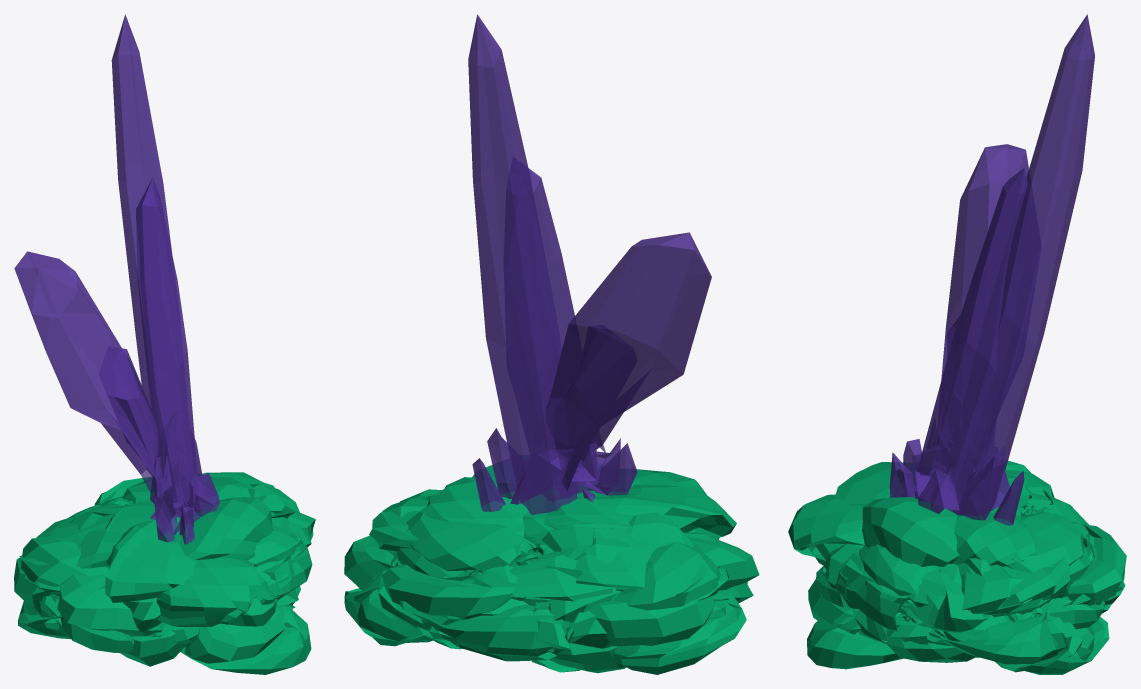
File: crystal19.obj
3 renders of one model, left to right at view 1: azimuth 30°, elevation 25°; view 2: azimuth 150°, elevation 25°; view 3: azimuth 270°, elevation 25°, orthographic. The views are drawn at different scales.
Parts seen in each view (by area): view 1: Cube.001, Circle.002_Circle.003; view 2: Cube.001, Circle.002_Circle.003; view 3: Cube.001, Circle.002_Circle.003.
Boxes of the visible parts, x1=… form: Cube.001: x1=14, y1=472, x2=315, y2=674; Circle.002_Circle.003: x1=14, y1=14, x2=219, y2=544; Cube.001: x1=344, y1=465, x2=759, y2=674; Circle.002_Circle.003: x1=468, y1=14, x2=711, y2=515; Cube.001: x1=788, y1=460, x2=1126, y2=674; Circle.002_Circle.003: x1=889, y1=14, x2=1094, y2=525.
Bounding box in the file's own units: 2.19 × 3.9 × 1.9.
